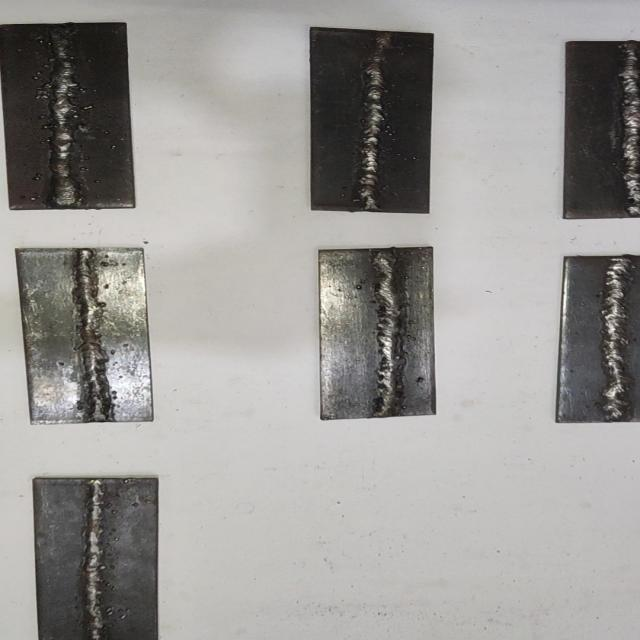Welding Line: (71, 249, 116, 422), (44, 24, 81, 209), (358, 32, 394, 212), (598, 256, 632, 420), (371, 251, 403, 413), (81, 480, 106, 640), (617, 43, 640, 215)
Workpiece: (0, 19, 140, 213), (11, 245, 160, 426), (306, 23, 438, 216), (28, 475, 164, 640), (315, 244, 440, 422), (553, 250, 640, 425), (559, 38, 640, 222)
